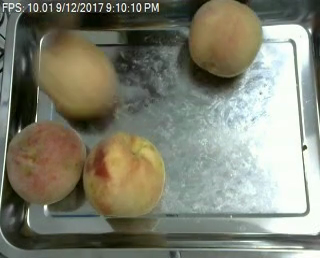Peach: (81, 130, 163, 219), (36, 30, 114, 119), (6, 119, 85, 204), (188, 0, 262, 77)
